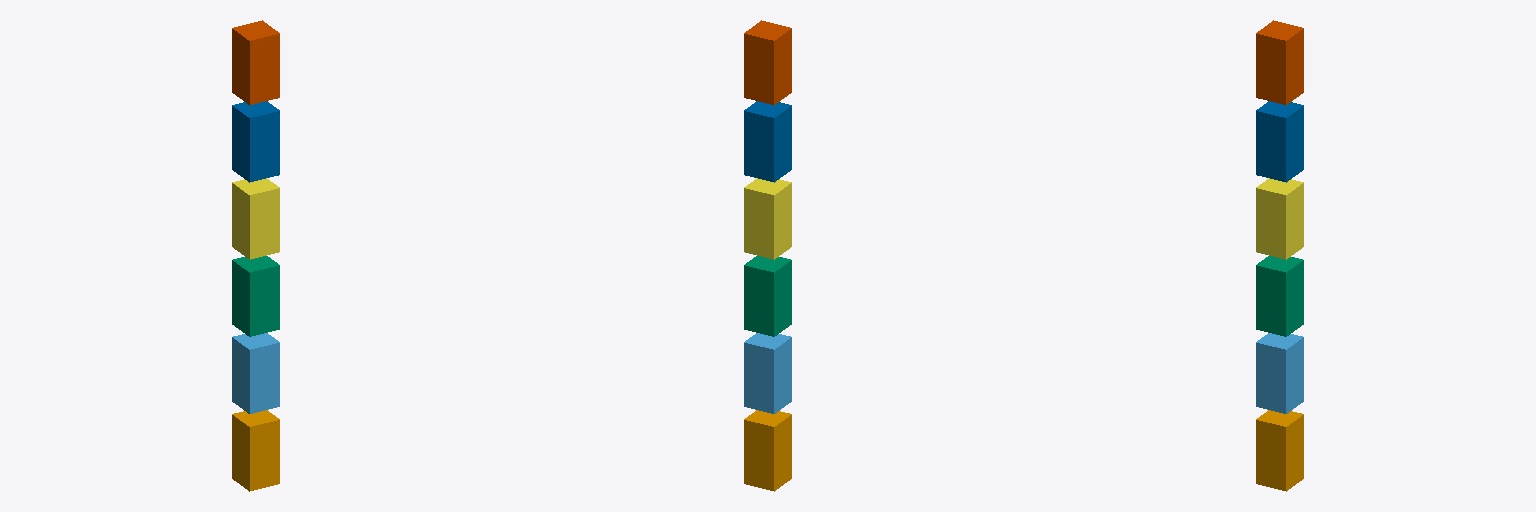
The robot description file, URDF, robot "inertia":
<?xml version="1.0"?>
<robot name="inertia">
  <link name="link_box1">
    <inertial>
      <origin xyz="0 0 0.5" rpy="0 0 0"/>
      <mass value="0.8"/>
      <!-- The diagonal elements are all the same and the off-diagonal elements are 0. -->
      <inertia ixx="1.0" ixy="0.0" ixz="0.0" iyy="1.0" iyz="0.0" izz="1.0"/>
    </inertial>
    <visual>
      <geometry>
        <box size="0.5 0.5 1.0"/>
      </geometry>
    </visual>
  </link>
  <link name="link_box2">
    <inertial>
      <origin xyz="0 0 0.5" rpy="0 0 0"/>
      <mass value="0.8"/>
      <!-- When the object is axisymmetric about the Z-axis and has two equal principal moments of inertia and one larger principal moment of inertia. -->
      <inertia ixx="2.0" ixy="0.0" ixz="0.0" iyy="1.0" iyz="0.0" izz="1.0"/>      
    </inertial>
    <visual>
      <geometry>
        <box size="0.5 0.5 1.0"/>
      </geometry>
    </visual>
  </link>

  <link name="link_box3">
    <inertial>
      <origin xyz="0 0 0.5" rpy="0 0 0"/>
      <mass value="0.8"/>
      <!-- When the object is axisymmetric about the Z-axis and has two identical principal moments of inertia and one smaller principal moment of inertia -->
      <inertia ixx="1.0" ixy="0.0" ixz="0.0" iyy="2.0" iyz="0.0" izz="2.0"/>
    </inertial>
    <visual>
      <geometry>
        <box size="0.5 0.5 1.0"/>
      </geometry>
    </visual>
  </link>
  <link name="link_box4">
    <inertial>
      <origin xyz="0 0 0.5" rpy="0 0 0"/>
      <mass value="0.8"/>
      <!-- Two equal eigenvalues with unique principal axis tilted from X; -->
      <!-- exercises the in-plane canonicalization sign flip. -->
      <inertia ixx="1.98" ixy="0.14" ixz="0.0" iyy="1.02" iyz="0.0" izz="1.0"/>
    </inertial>
    <visual>
      <geometry>
        <box size="0.5 0.5 1.0"/>
      </geometry>
    </visual>
  </link>
  <link name="link_box5">
    <inertial>
      <origin xyz="0 0 0.5" rpy="0 0 0"/>
      <mass value="0.8"/>
      <!-- Two equal larger eigenvalues with unique principal axis tilted from X; -->
      <!-- exercises the in-plane canonicalization sign flip. -->
      <inertia ixx="1.02" ixy="-0.14" ixz="0.0" iyy="1.98" iyz="0.0" izz="2.0"/>
    </inertial>
    <visual>
      <geometry>
        <box size="0.5 0.5 1.0"/>
      </geometry>
    </visual>
  </link>
  <link name="link_box6">
    <inertial>
      <origin xyz="0 0 0.5" rpy="0 0 0"/>
      <mass value="0.8"/>
      <!-- Three distinct eigenvalues (no degeneracy); -->
      <!-- exercises the det < 0 branch so the eigenvector matrix is corrected to a proper rotation (det = +1). -->
      <inertia ixx="2.0" ixy="0.5" ixz="0.0" iyy="1.0" iyz="0.0" izz="3.0"/>
    </inertial>
    <visual>
      <geometry>
        <box size="0.5 0.5 1.0"/>
      </geometry>
    </visual>
  </link>

  <joint name="joint_box1_box2" type="fixed">
    <origin xyz="0 0 1.2"/>
    <parent link="link_box1"/>
    <child link="link_box2"/>
  </joint>
  <joint name="joint_box2_box3" type="fixed">
    <origin xyz="0 0 1.2"/>
    <parent link="link_box2"/>
    <child link="link_box3"/>
  </joint>
  <joint name="joint_box3_box4" type="fixed">
    <origin xyz="0 0 1.2"/>
    <parent link="link_box3"/>
    <child link="link_box4"/>
  </joint>
  <joint name="joint_box4_box5" type="fixed">
    <origin xyz="0 0 1.2"/>
    <parent link="link_box4"/>
    <child link="link_box5"/>
  </joint>
  <joint name="joint_box5_box6" type="fixed">
    <origin xyz="0 0 1.2"/>
    <parent link="link_box5"/>
    <child link="link_box6"/>
  </joint>
</robot>

--- What the picture shows (computed from the rendered views, not written in the file) ---
The picture shows the robot from 3 angles, left to right: view 1: azimuth 30°, elevation 25°; view 2: azimuth 150°, elevation 25°; view 3: azimuth 330°, elevation 25°; orthographic projection.
Robot: inertia — 6 links, 5 joints (5 fixed); root link link_box1; default pose: every joint at zero.
Links seen in each view (by area): view 1: link_box6, link_box1, link_box5, link_box2, link_box4, link_box3; view 2: link_box6, link_box1, link_box5, link_box2, link_box4, link_box3; view 3: link_box6, link_box1, link_box5, link_box2, link_box4, link_box3.
Link boxes in pixels (box(x1,y1,x2,y2)): link_box6: box(232, 20, 279, 104); link_box1: box(232, 410, 279, 491); link_box5: box(232, 101, 279, 182); link_box2: box(232, 333, 279, 413); link_box4: box(232, 178, 279, 259); link_box3: box(232, 256, 279, 336); link_box6: box(744, 20, 791, 104); link_box1: box(744, 410, 791, 491); link_box5: box(744, 101, 791, 182); link_box2: box(744, 333, 791, 413); link_box4: box(744, 178, 791, 259); link_box3: box(744, 256, 791, 336); link_box6: box(1256, 20, 1303, 104); link_box1: box(1256, 410, 1303, 491); link_box5: box(1256, 101, 1303, 182); link_box2: box(1256, 333, 1303, 413); link_box4: box(1256, 178, 1303, 259); link_box3: box(1256, 256, 1303, 336).
Size in the robot's own frame: 0.5 by 0.5 by 7 metres.
Geometry: primitives only (box / cylinder / sphere), no mesh files.